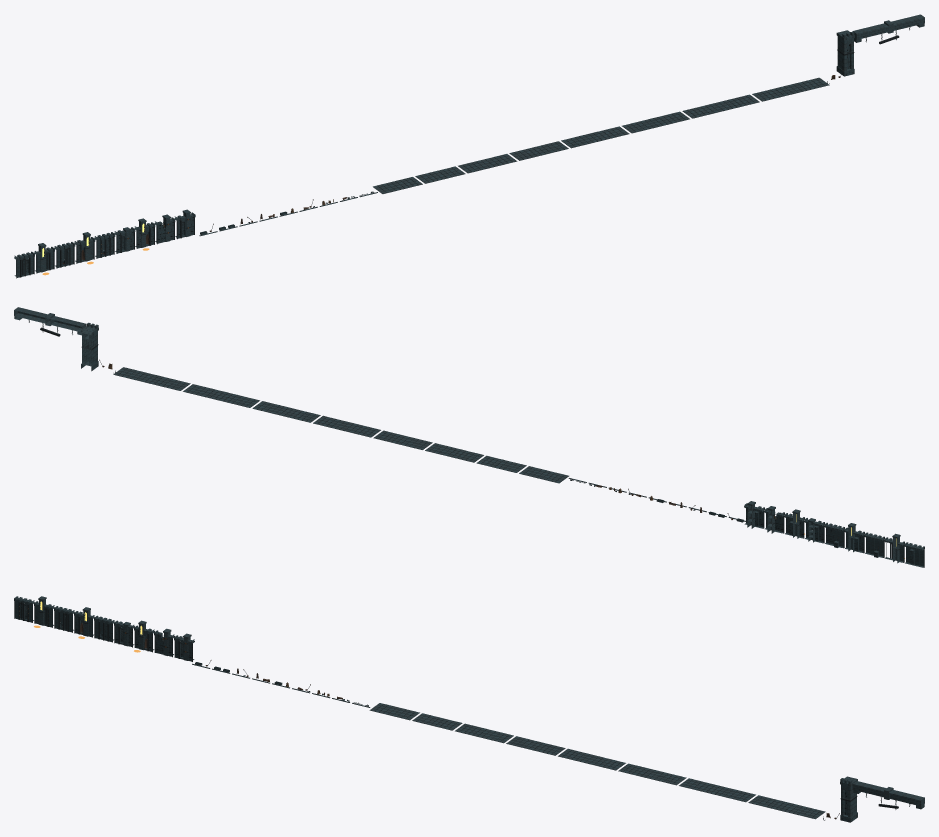
Rendered from T1_Kit_All_preview.glb.
3 renders of one model, top to bottom at view 1: azimuth 30°, elevation 25°; view 2: azimuth 150°, elevation 25°; view 3: azimuth 330°, elevation 25°, orthographic.
Visible parts, largest first — view 1: T1_Gate_Lintel, T1_Gate_Tower, T1_FloorStrip_W15_B, T1_FloorStrip_W15_A, T1_FloorStrip_W13_A, T1_FloorStrip_W13_B; view 2: T1_Gate_Lintel, T1_FloorStrip_W15_B, T1_FloorStrip_W15_A, T1_Gate_Tower, T1_FloorStrip_W13_A, T1_FloorStrip_W13_B, T1_FloorStrip_W11_A, T1_FloorStrip_W11_B; view 3: T1_Gate_Lintel, T1_FloorStrip_W15_A, T1_FloorStrip_W15_B, T1_Gate_Tower, T1_FloorStrip_W13_B, T1_FloorStrip_W13_A, T1_FloorStrip_W11_A, T1_FloorStrip_W11_B, T1_End_A, T1_Mid_A, T1_Start_B, T1_End_C.
Part boxes in pixels (x1=…): T1_Gate_Lintel: x1=852, y1=14, x2=924, y2=44; T1_Gate_Tower: x1=836, y1=30, x2=854, y2=76; T1_FloorStrip_W15_B: x1=752, y1=77, x2=829, y2=101; T1_FloorStrip_W15_A: x1=682, y1=94, x2=759, y2=118; T1_FloorStrip_W13_A: x1=561, y1=126, x2=629, y2=148; T1_FloorStrip_W13_B: x1=622, y1=111, x2=689, y2=133; T1_Gate_Lintel: x1=14, y1=307, x2=86, y2=336; T1_FloorStrip_W15_B: x1=113, y1=367, x2=190, y2=390; T1_FloorStrip_W15_A: x1=183, y1=384, x2=259, y2=407; T1_Gate_Tower: x1=81, y1=322, x2=98, y2=371; T1_FloorStrip_W13_A: x1=313, y1=415, x2=380, y2=437; T1_FloorStrip_W13_B: x1=252, y1=401, x2=320, y2=422; T1_FloorStrip_W11_A: x1=425, y1=443, x2=483, y2=462; T1_FloorStrip_W11_B: x1=373, y1=430, x2=432, y2=449; T1_Gate_Lintel: x1=852, y1=781, x2=924, y2=809; T1_FloorStrip_W15_A: x1=679, y1=778, x2=755, y2=802; T1_FloorStrip_W15_B: x1=748, y1=795, x2=825, y2=819; T1_Gate_Tower: x1=840, y1=776, x2=857, y2=822; T1_FloorStrip_W13_B: x1=618, y1=763, x2=686, y2=785; T1_FloorStrip_W13_A: x1=558, y1=748, x2=625, y2=770; T1_FloorStrip_W11_A: x1=455, y1=723, x2=513, y2=743; T1_FloorStrip_W11_B: x1=506, y1=736, x2=565, y2=755; T1_End_A: x1=134, y1=620, x2=154, y2=652; T1_Mid_A: x1=74, y1=607, x2=94, y2=638; T1_Start_B: x1=34, y1=596, x2=54, y2=627; T1_End_C: x1=174, y1=633, x2=194, y2=661.
Bounding box in the file's own units: 227 × 10.83 × 5.45.
Materials: 2 (1 with a texture image).
